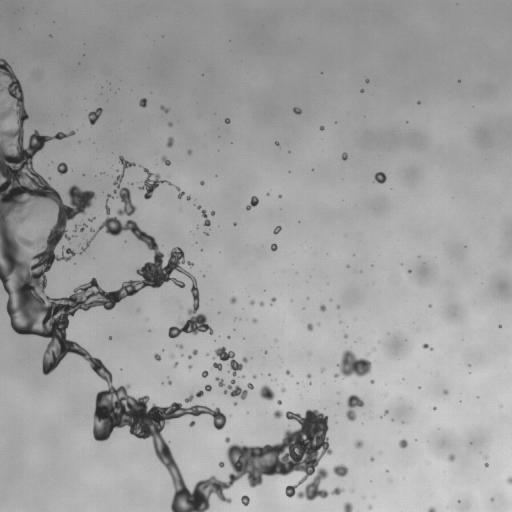droplet: (140, 165, 172, 199), (334, 349, 371, 378), (212, 346, 247, 375), (223, 379, 247, 399), (346, 394, 363, 421), (88, 108, 102, 125), (259, 385, 274, 400), (333, 464, 348, 477), (246, 196, 258, 210), (374, 172, 386, 183), (57, 162, 67, 174), (175, 186, 184, 198), (74, 223, 86, 231), (343, 502, 353, 511), (161, 156, 170, 165), (215, 377, 224, 386), (398, 439, 407, 448), (241, 495, 249, 505), (354, 440, 363, 448), (166, 137, 173, 147), (273, 226, 281, 234), (139, 98, 146, 107), (293, 107, 301, 114), (154, 353, 161, 361), (201, 370, 208, 377), (448, 454, 455, 461), (160, 106, 168, 112), (341, 152, 347, 160), (271, 243, 277, 251), (307, 323, 313, 331), (270, 297, 276, 304), (320, 304, 326, 311), (205, 384, 211, 391), (218, 461, 225, 467), (230, 297, 236, 303), (247, 383, 253, 389), (507, 476, 511, 484), (285, 370, 291, 375), (189, 421, 195, 426), (225, 437, 230, 443), (176, 344, 183, 348), (225, 118, 230, 123), (107, 194, 112, 199), (173, 362, 178, 367), (89, 217, 94, 221), (259, 302, 264, 306), (193, 349, 197, 354), (307, 373, 311, 378), (281, 387, 285, 392), (443, 390, 448, 394), (483, 455, 488, 459), (484, 462, 488, 467), (168, 122, 172, 126), (320, 126, 324, 130), (275, 141, 279, 145), (187, 150, 191, 154), (200, 181, 204, 185), (186, 196, 190, 200), (210, 211, 214, 215), (250, 300, 254, 304), (253, 318, 257, 322), (370, 379, 374, 383), (277, 400, 281, 404), (384, 410, 388, 414), (370, 457, 374, 461), (197, 205, 200, 209), (171, 354, 174, 358), (188, 365, 191, 369), (252, 375, 256, 378), (368, 505, 371, 509), (366, 79, 369, 82), (205, 232, 208, 235), (344, 334, 347, 337), (188, 355, 191, 358), (321, 368, 324, 371), (168, 381, 171, 384), (361, 89, 363, 92), (278, 195, 281, 197), (233, 223, 236, 225), (408, 270, 411, 272), (264, 351, 267, 353), (234, 402, 236, 405), (433, 407, 436, 409), (490, 498, 493, 500), (337, 306, 339, 308), (372, 348, 374, 350), (386, 470, 388, 472)
ligament: (0, 58, 341, 511), (113, 155, 136, 216), (185, 390, 203, 402), (201, 209, 210, 227), (422, 343, 432, 350), (427, 507, 436, 511)
